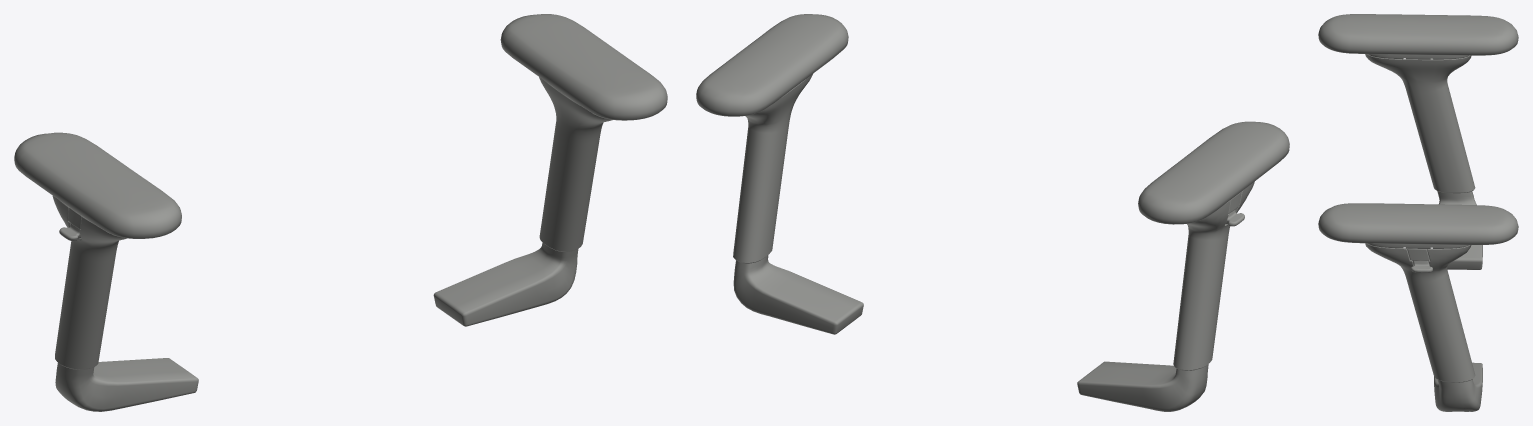
File: 4D_arm.glb
The picture shows the model from 3 angles, left to right: view 1: azimuth 30°, elevation 25°; view 2: azimuth 150°, elevation 25°; view 3: azimuth 270°, elevation 25°; orthographic projection. The views are drawn at different scales.
Visible parts, largest first — view 1: AFUCH-3-ARPL, AFUCH-3-ARPD; view 2: AFUCH-3-ARPL, AFUCH-3-ARPD; view 3: AFUCH-3-ARPL, AFUCH-3-ARPD.
Part boxes in pixels (box(x1,y1,x2,y2)): AFUCH-3-ARPL: box(52, 77, 612, 411); AFUCH-3-ARPD: box(14, 14, 667, 238); AFUCH-3-ARPL: box(733, 74, 1254, 411); AFUCH-3-ARPD: box(696, 14, 1289, 224); AFUCH-3-ARPL: box(1365, 54, 1482, 411); AFUCH-3-ARPD: box(1318, 14, 1518, 244).
Size of the model in its own units: 67.5 by 29.57 by 26.14.
1 material, 1 textured.
